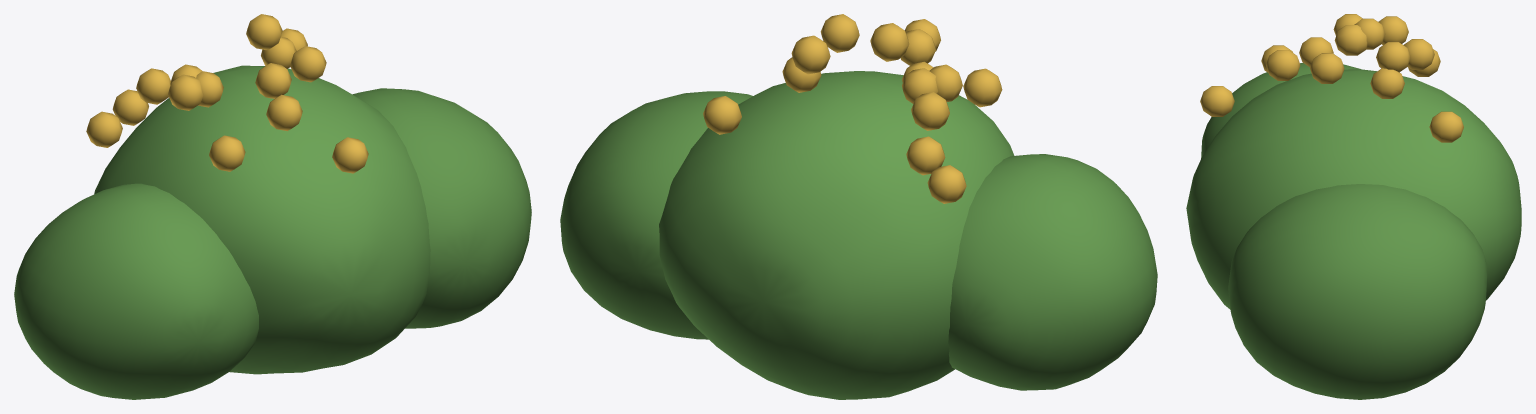
The model's file is bush_flower.glb.
3 views of the same model, side by side, from view 1: azimuth 30°, elevation 25°; view 2: azimuth 150°, elevation 25°; view 3: azimuth 270°, elevation 25° (orthographic). The views are drawn at different scales.
Parts seen in each view (by area): view 1: Bush_Flower_Leaves, Bush_Flower_Flowers; view 2: Bush_Flower_Leaves, Bush_Flower_Flowers; view 3: Bush_Flower_Leaves, Bush_Flower_Flowers.
Part boxes in pixels (box(x1,y1,x2,y2)): Bush_Flower_Leaves: box(14, 65, 531, 399); Bush_Flower_Flowers: box(86, 14, 368, 173); Bush_Flower_Leaves: box(560, 71, 1157, 399); Bush_Flower_Flowers: box(703, 14, 1002, 203); Bush_Flower_Leaves: box(1186, 63, 1521, 399); Bush_Flower_Flowers: box(1200, 14, 1463, 142).
Size of the model in its own units: 1.39 by 0.8595 by 0.8691.
